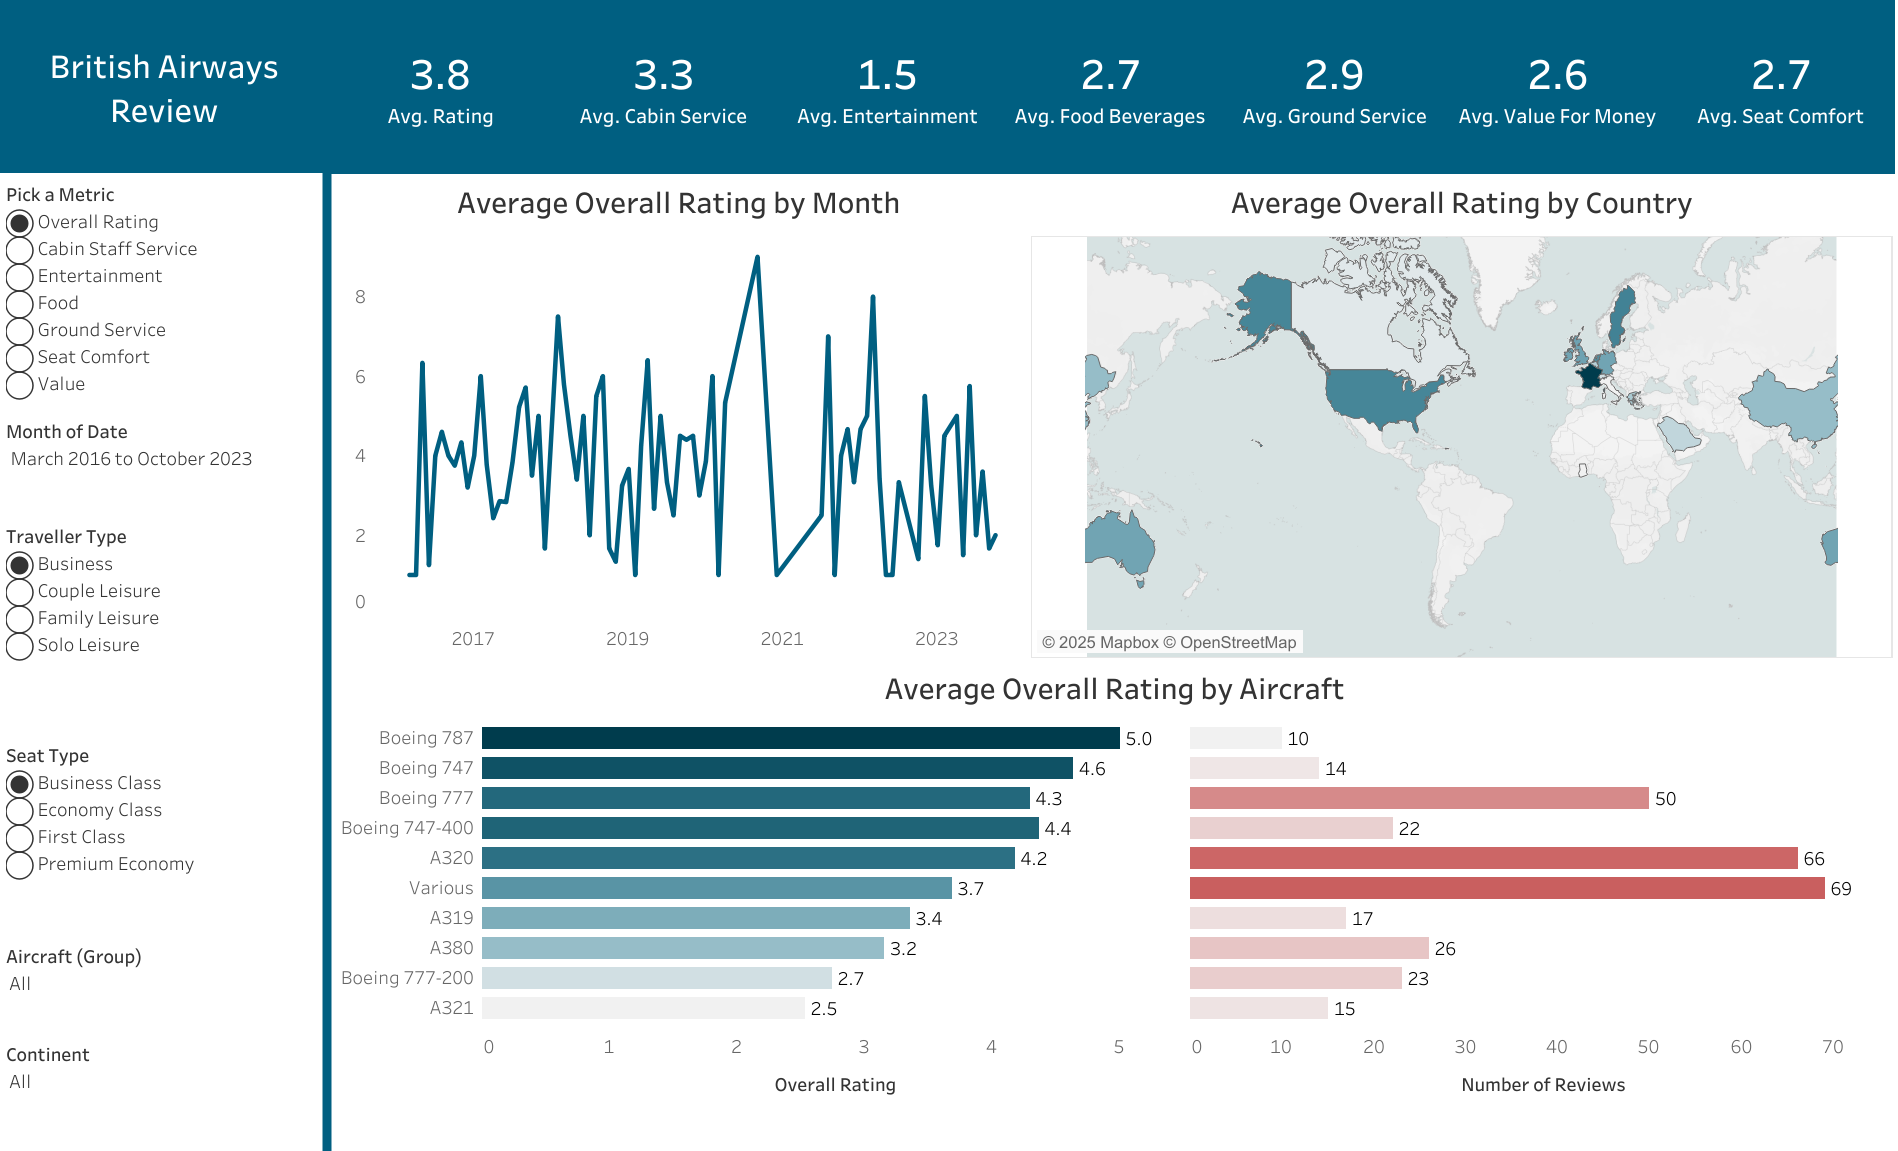

What the dashboard file says about the page in this screenshot:
{"tool":"tableau","page":{"name":"Dashboard 1","canvas":[1366,768],"ordinal":0},"visuals":[{"type":"title","box":[0,0,236,115]},{"type":"worksheet","title":"Sheet 5","mark":"Automatic","box":[236,0,1126,115]},{"type":"blank","box":[232.1,106,6.7,665]},{"type":"parameter","param":"[Parameters].[Parameter 1]","box":[0,115,231,158]},{"type":"worksheet","title":"Month","mark":"Automatic","rows":["Calculation_586030960281120769"],"cols":["date"],"box":[239,115,499,324]},{"type":"worksheet","title":"Country","mark":"Automatic","box":[741,115,621,324]},{"type":"filter","title":"Country","param":"[federated.0t2c2dl1og59tw12kicqm16d3xc1].[tmn:date:qk]","box":[0,273,231,77]},{"type":"filter","title":"Country","param":"[federated.0t2c2dl1og59tw12kicqm16d3xc1].[none:traveller_type:nk]","box":[0,350,231,146]},{"type":"worksheet","title":"Avg/ Aircraft","mark":"Automatic","cols":["Calculation_586030960281120769","ba_reviews.csv_D1EAA9FDBF6A4E68A1A3B0229D91A8E2"],"box":[239,439,1126,329]},{"type":"filter","title":"Country","param":"[federated.0t2c2dl1og59tw12kicqm16d3xc1].[none:seat_type:nk]","box":[0,496,231,134]},{"type":"filter","title":"Country","param":"[federated.0t2c2dl1og59tw12kicqm16d3xc1].[Aircraft (group)]","box":[0,630,231,65]},{"type":"filter","title":"Country","param":"[federated.0t2c2dl1og59tw12kicqm16d3xc1].[none:Continent:nk]","box":[0,695,231,70]}]}

Visuals, with their boxes on the page's 1366x768 design canvas (x1, y1, x2, y2). These are canvas units, not pixel positions in the 1898x1151 screenshot, which may show the page scaled, cropped or inside an application window:
title: bbox=(0, 0, 236, 115)
"Sheet 5" worksheet: bbox=(236, 0, 1362, 115)
blank: bbox=(232, 106, 239, 771)
parameter: bbox=(0, 115, 231, 273)
"Month" worksheet: bbox=(239, 115, 738, 439)
"Country" worksheet: bbox=(741, 115, 1362, 439)
"Country" filter: bbox=(0, 273, 231, 350)
"Country" filter: bbox=(0, 350, 231, 496)
"Avg/ Aircraft" worksheet: bbox=(239, 439, 1365, 768)
"Country" filter: bbox=(0, 496, 231, 630)
"Country" filter: bbox=(0, 630, 231, 695)
"Country" filter: bbox=(0, 695, 231, 765)
